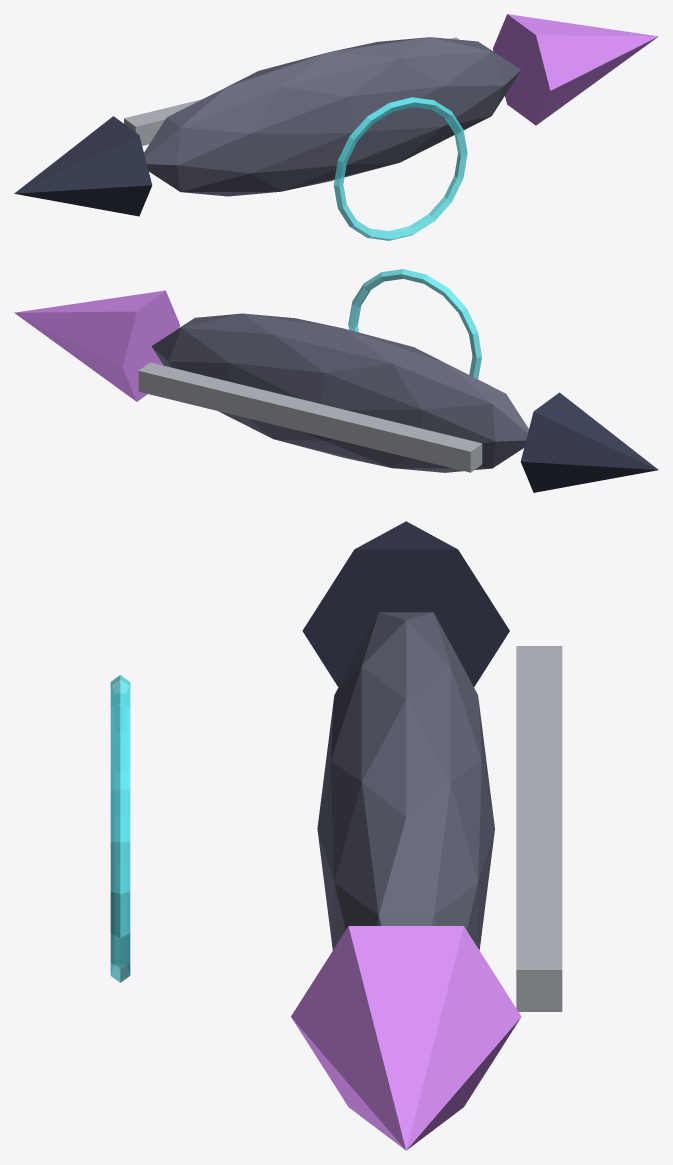
File: 05_skyship_hull.glb
3 views of the same model, one above another, from view 1: azimuth 30°, elevation 25°; view 2: azimuth 150°, elevation 25°; view 3: azimuth 270°, elevation 25° (orthographic). The views are drawn at different scales.
Parts seen in each view (by area): view 1: hull_low_poly, bow_upgrade, stern_fin, size_class_ring, keel_plate; view 2: hull_low_poly, keel_plate, bow_upgrade, stern_fin, size_class_ring; view 3: hull_low_poly, bow_upgrade, keel_plate, stern_fin, size_class_ring.
Boxes of the visible parts, <box> form: hull_low_poly: <box>144,37,521,196</box>; bow_upgrade: <box>493,14,658,125</box>; stern_fin: <box>14,116,152,216</box>; size_class_ring: <box>333,97,467,240</box>; keel_plate: <box>124,37,458,145</box>; hull_low_poly: <box>151,313,528,472</box>; keel_plate: <box>138,362,482,472</box>; bow_upgrade: <box>14,290,179,401</box>; stern_fin: <box>520,392,658,492</box>; size_class_ring: <box>348,269,481,379</box>; hull_low_poly: <box>317,612,494,950</box>; bow_upgrade: <box>291,926,521,1150</box>; keel_plate: <box>516,646,562,1011</box>; stern_fin: <box>302,521,509,686</box>; size_class_ring: <box>110,675,130,982</box>.
Bounding box in the file's own units: 3.36 × 0.6862 × 1.02.
